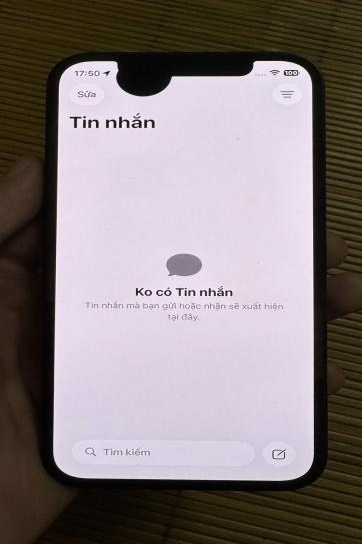screen_defect: (95, 47, 196, 105)
